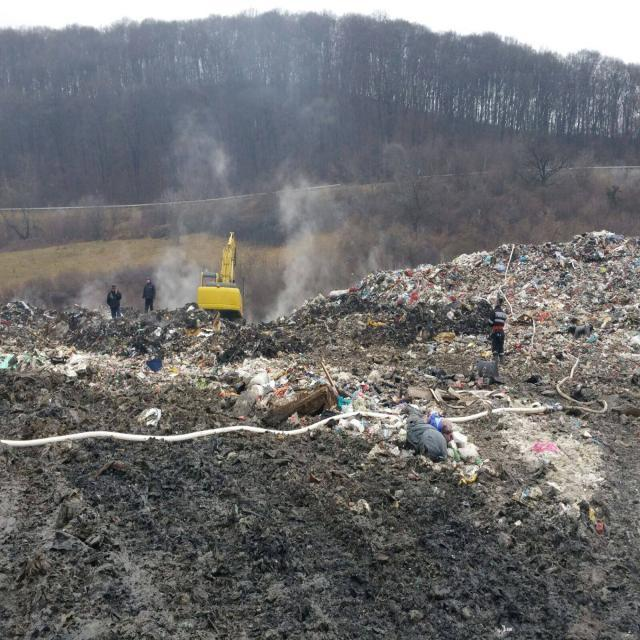Smoke: (156, 118, 236, 318), (259, 164, 357, 326)
